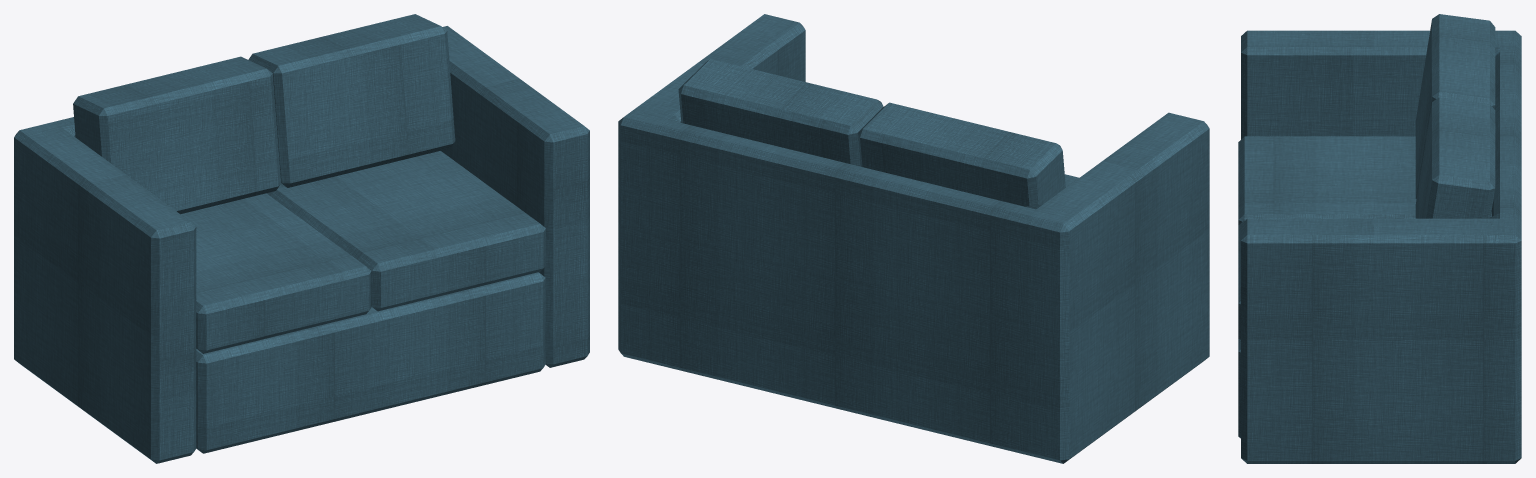
The model's file is lounge_textured.obj.
3 renders of one model, left to right at view 1: azimuth 30°, elevation 25°; view 2: azimuth 150°, elevation 25°; view 3: azimuth 270°, elevation 25°, orthographic. The views are drawn at different scales.
Parts seen in each view (by area): view 1: Cube.002_Cube.003; view 2: Cube.002_Cube.003; view 3: Cube.002_Cube.003.
Part boxes in pixels (box(x1,y1,x2,y2)): Cube.002_Cube.003: box(14, 14, 589, 463); Cube.002_Cube.003: box(618, 14, 1209, 463); Cube.002_Cube.003: box(1238, 14, 1521, 463).
Size of the model in its own units: 1.57 by 0.9338 by 0.8971.
